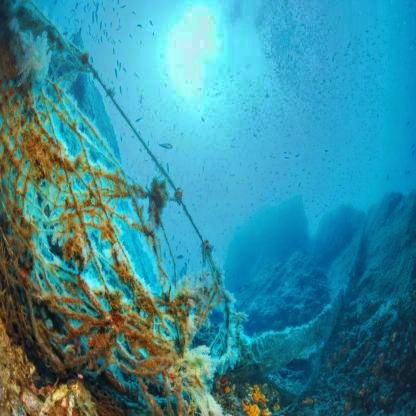net: (0, 30, 223, 402)
